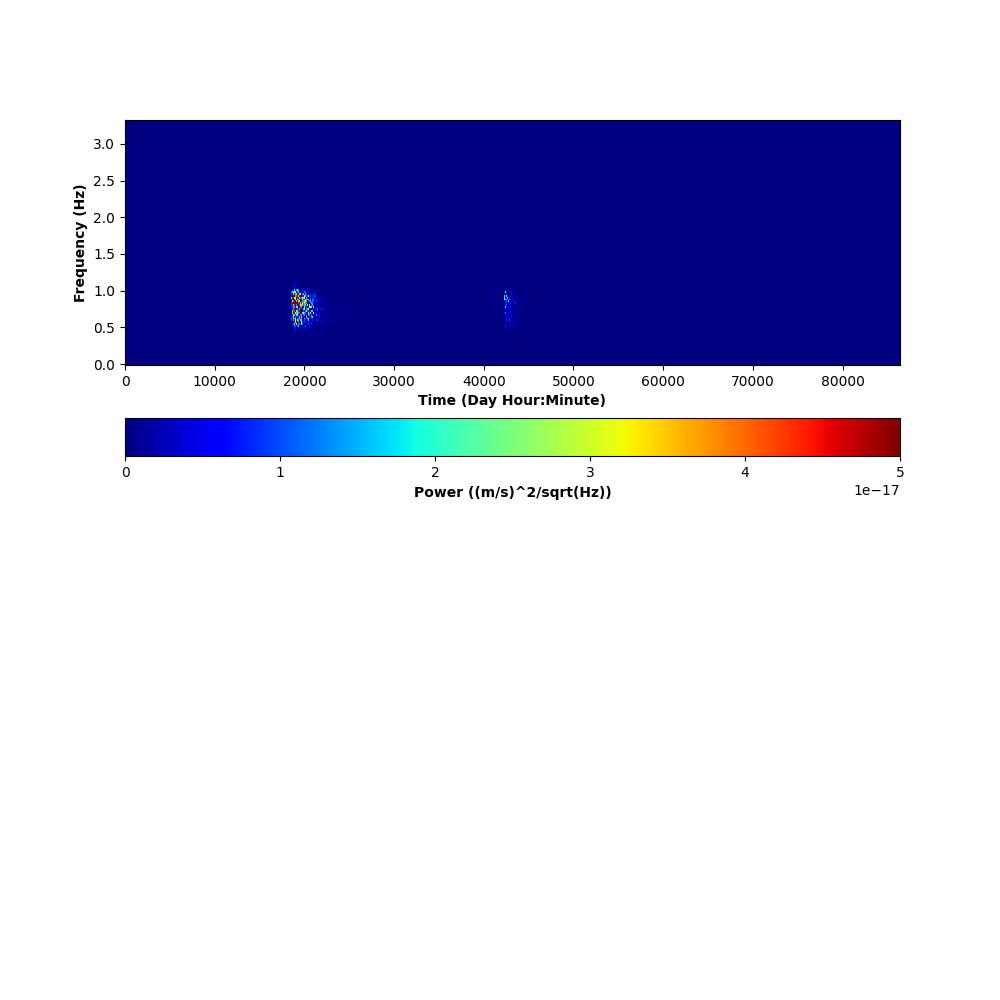Detection: (289, 284, 325, 332), (503, 287, 518, 326)
